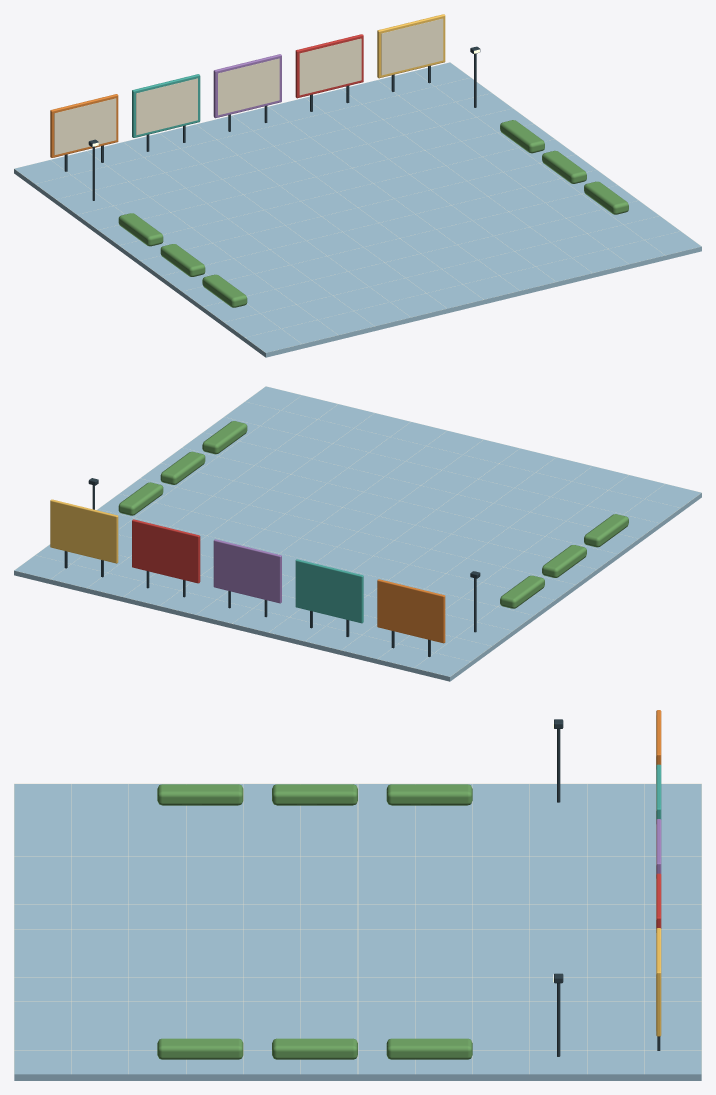
File: gallery-plaza.glb
3 renders of one model, top to bottom at view 1: azimuth 30°, elevation 25°; view 2: azimuth 150°, elevation 25°; view 3: azimuth 270°, elevation 25°, orthographic. The views are drawn at different scales.
Visible parts, largest first — view 1: Paving, LowHedge (×6), ColorFrame (×5), GalleryFace_3, GalleryFace_4, GalleryFace_2, GalleryFace_1, GalleryFace_0; view 2: Paving, ColorFrame (×5), LowHedge (×6); view 3: Paving, LowHedge (×6), TileJoint (×6), ColorFrame.
Part boxes in pixels (x1,y1,x2,y2): Paving: (14, 62, 701, 357); LowHedge (×6): (118, 120, 628, 307); ColorFrame (×5): (50, 14, 445, 157); GalleryFace_3: (299, 38, 361, 95); GalleryFace_4: (381, 18, 443, 75); GalleryFace_2: (218, 58, 279, 115); GalleryFace_1: (136, 78, 197, 135); GalleryFace_0: (54, 98, 116, 155); Paving: (14, 386, 701, 681); ColorFrame (×5): (50, 499, 445, 643); LowHedge (×6): (118, 421, 628, 608); Paving: (14, 784, 701, 1080); LowHedge (×6): (157, 784, 472, 1059); TileJoint (×6): (14, 783, 701, 1001); ColorFrame: (656, 928, 661, 1036).
Bounding box in the file's own units: 48.03 × 7.3 × 48.03.
